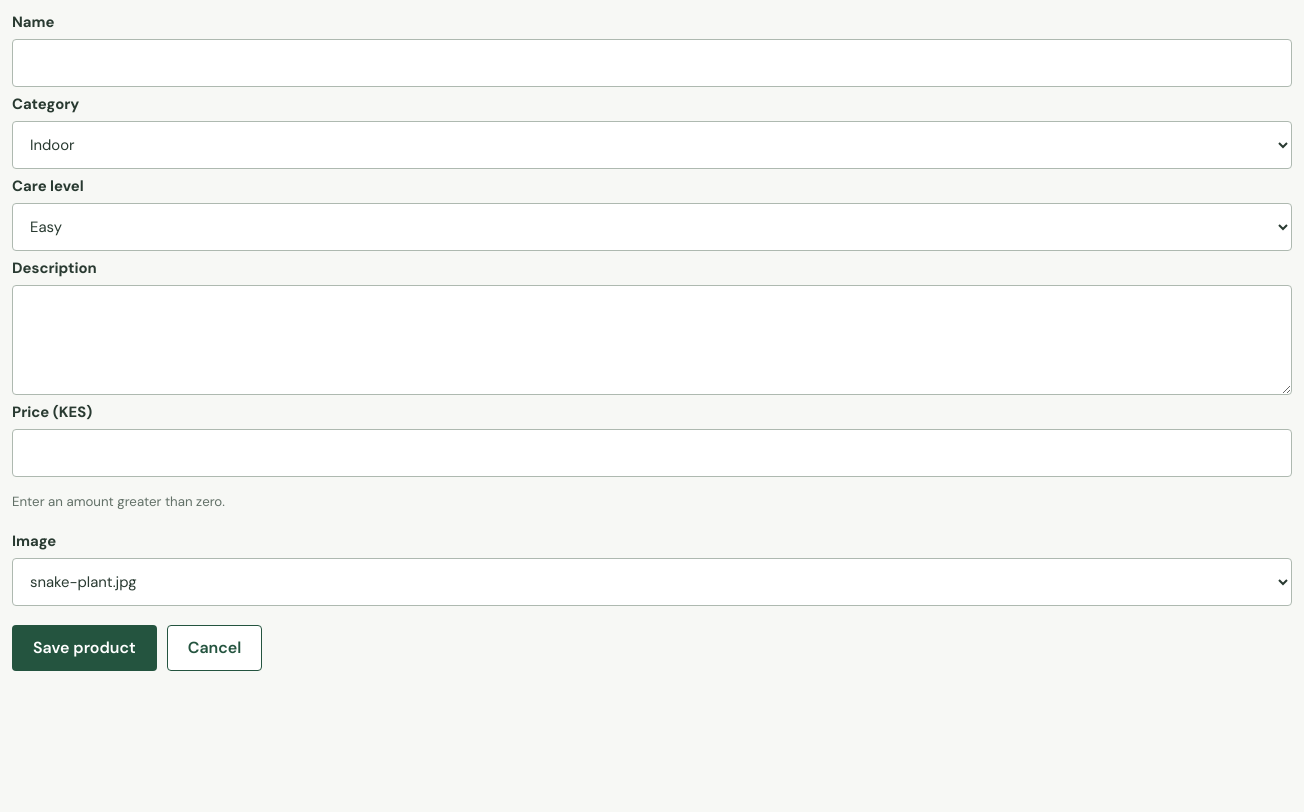
Scenario: ProductForm › shows clear messages for empty required fields and does not submit
The image size is (1304, 812).
Click the button "Save product".
click(84, 648)  # box [12,625,157,671]
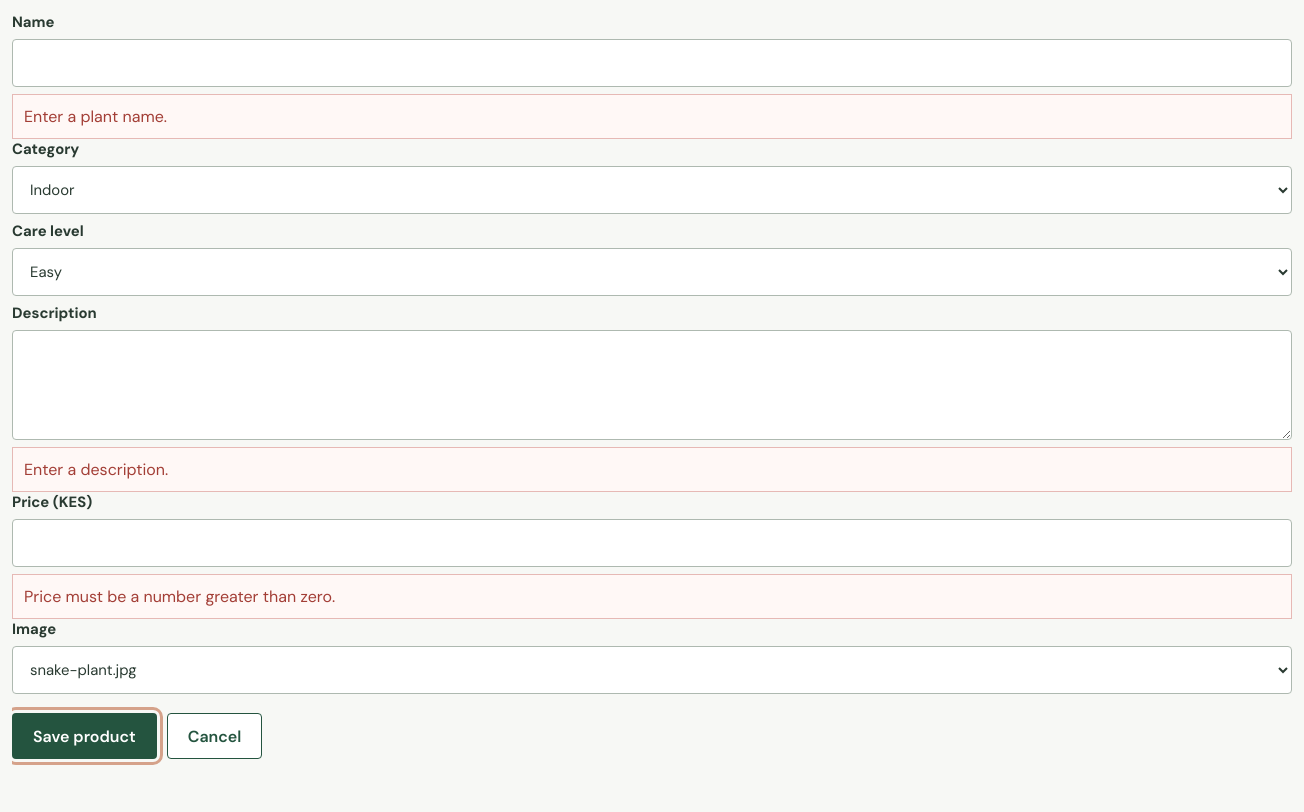
Expected: the text "Enter a plant name." is shown, [12,94,1292,139]
Expected: the text "Enter a description." is shown, [12,447,1292,492]
Expected: the text "Price must be a number greater than zero." is shown, [12,574,1292,619]
